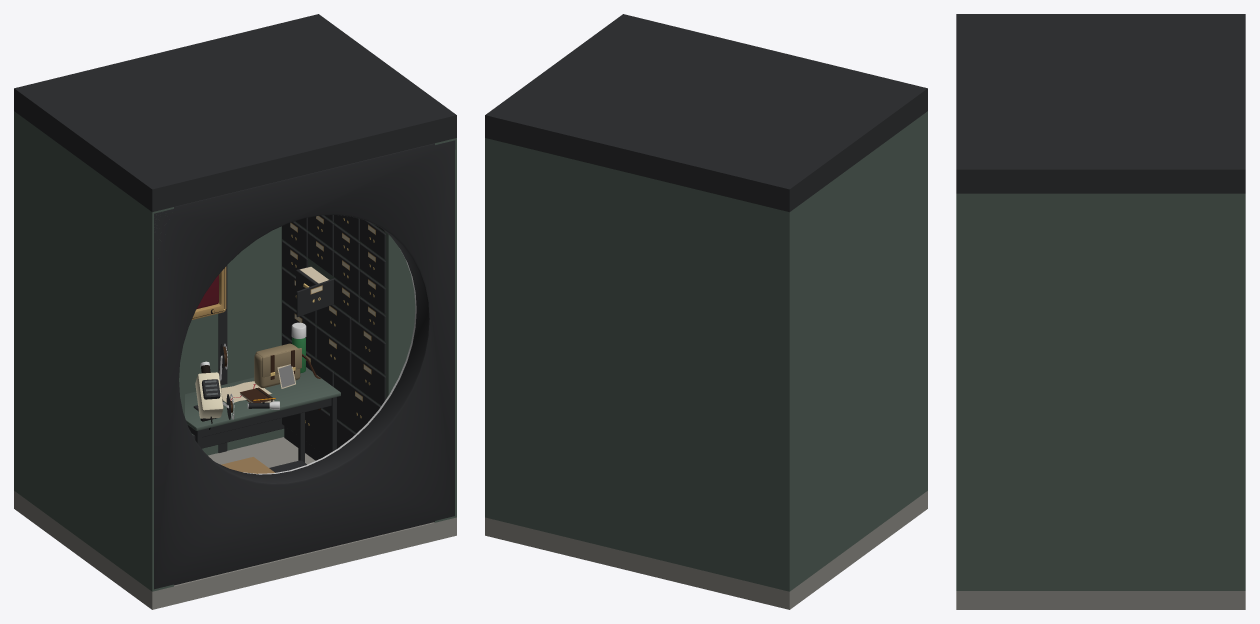
The model's file is vault_interior.glb.
3 renders of one model, left to right at view 1: azimuth 30°, elevation 25°; view 2: azimuth 150°, elevation 25°; view 3: azimuth 270°, elevation 25°, orthographic. The views are drawn at different scales.
Visible parts, largest first — view 1: vault_shell, vault_boxes, vault_table, field_kit, vault_projector, key_cradle; view 2: vault_shell; view 3: vault_shell.
Boxes of the visible parts, box(x1,y1,x2,y2) form: vault_shell: box(14, 14, 456, 609); vault_boxes: box(179, 215, 415, 460); vault_table: box(185, 367, 340, 473); field_kit: box(221, 322, 320, 410); vault_projector: box(193, 343, 234, 429); key_cradle: box(192, 266, 226, 319); vault_shell: box(485, 14, 927, 609); vault_shell: box(956, 14, 1245, 609).
Size of the model in its own units: 2.1 by 2.77 by 1.65.
